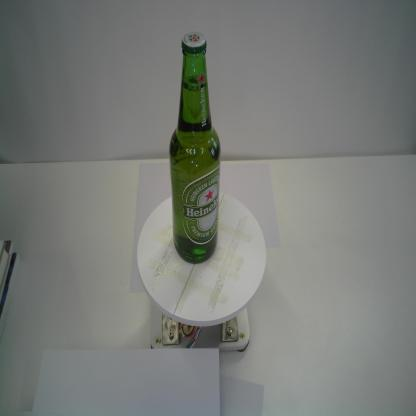Alcohol: (168, 30, 222, 264)
